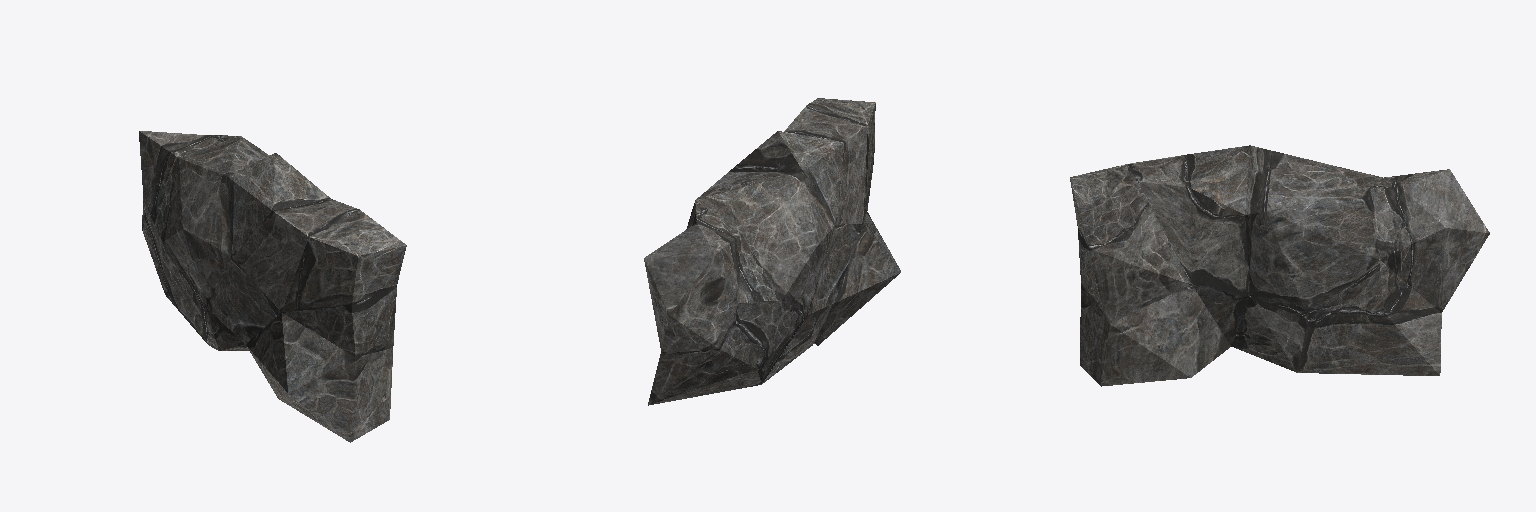
3 views of the same model, side by side, from view 1: azimuth 30°, elevation 25°; view 2: azimuth 150°, elevation 25°; view 3: azimuth 270°, elevation 25° (orthographic).
Parts seen in each view (by area): view 1: Rocks_03; view 2: Rocks_03; view 3: Rocks_03.
Part boxes in pixels (x1,y1,x2,y2): Rocks_03: (139, 131, 406, 442); Rocks_03: (644, 98, 900, 405); Rocks_03: (1070, 145, 1489, 386).
Size of the model in its own units: 82.37 by 146 by 246.
Materials: 1 (1 with a texture image).